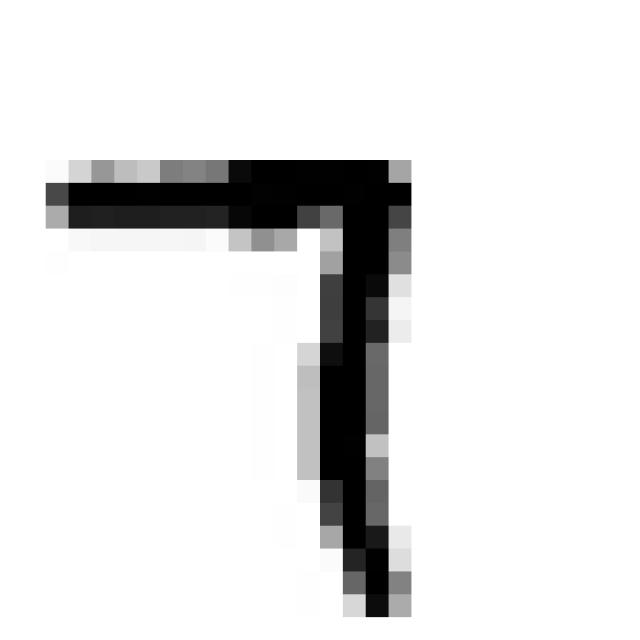6 -six-: (23, 137, 428, 628)
